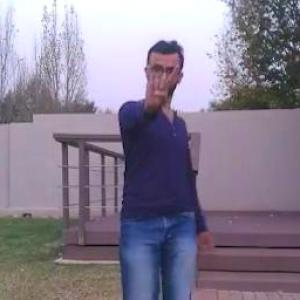takeoff-hand: (130, 54, 176, 111)
